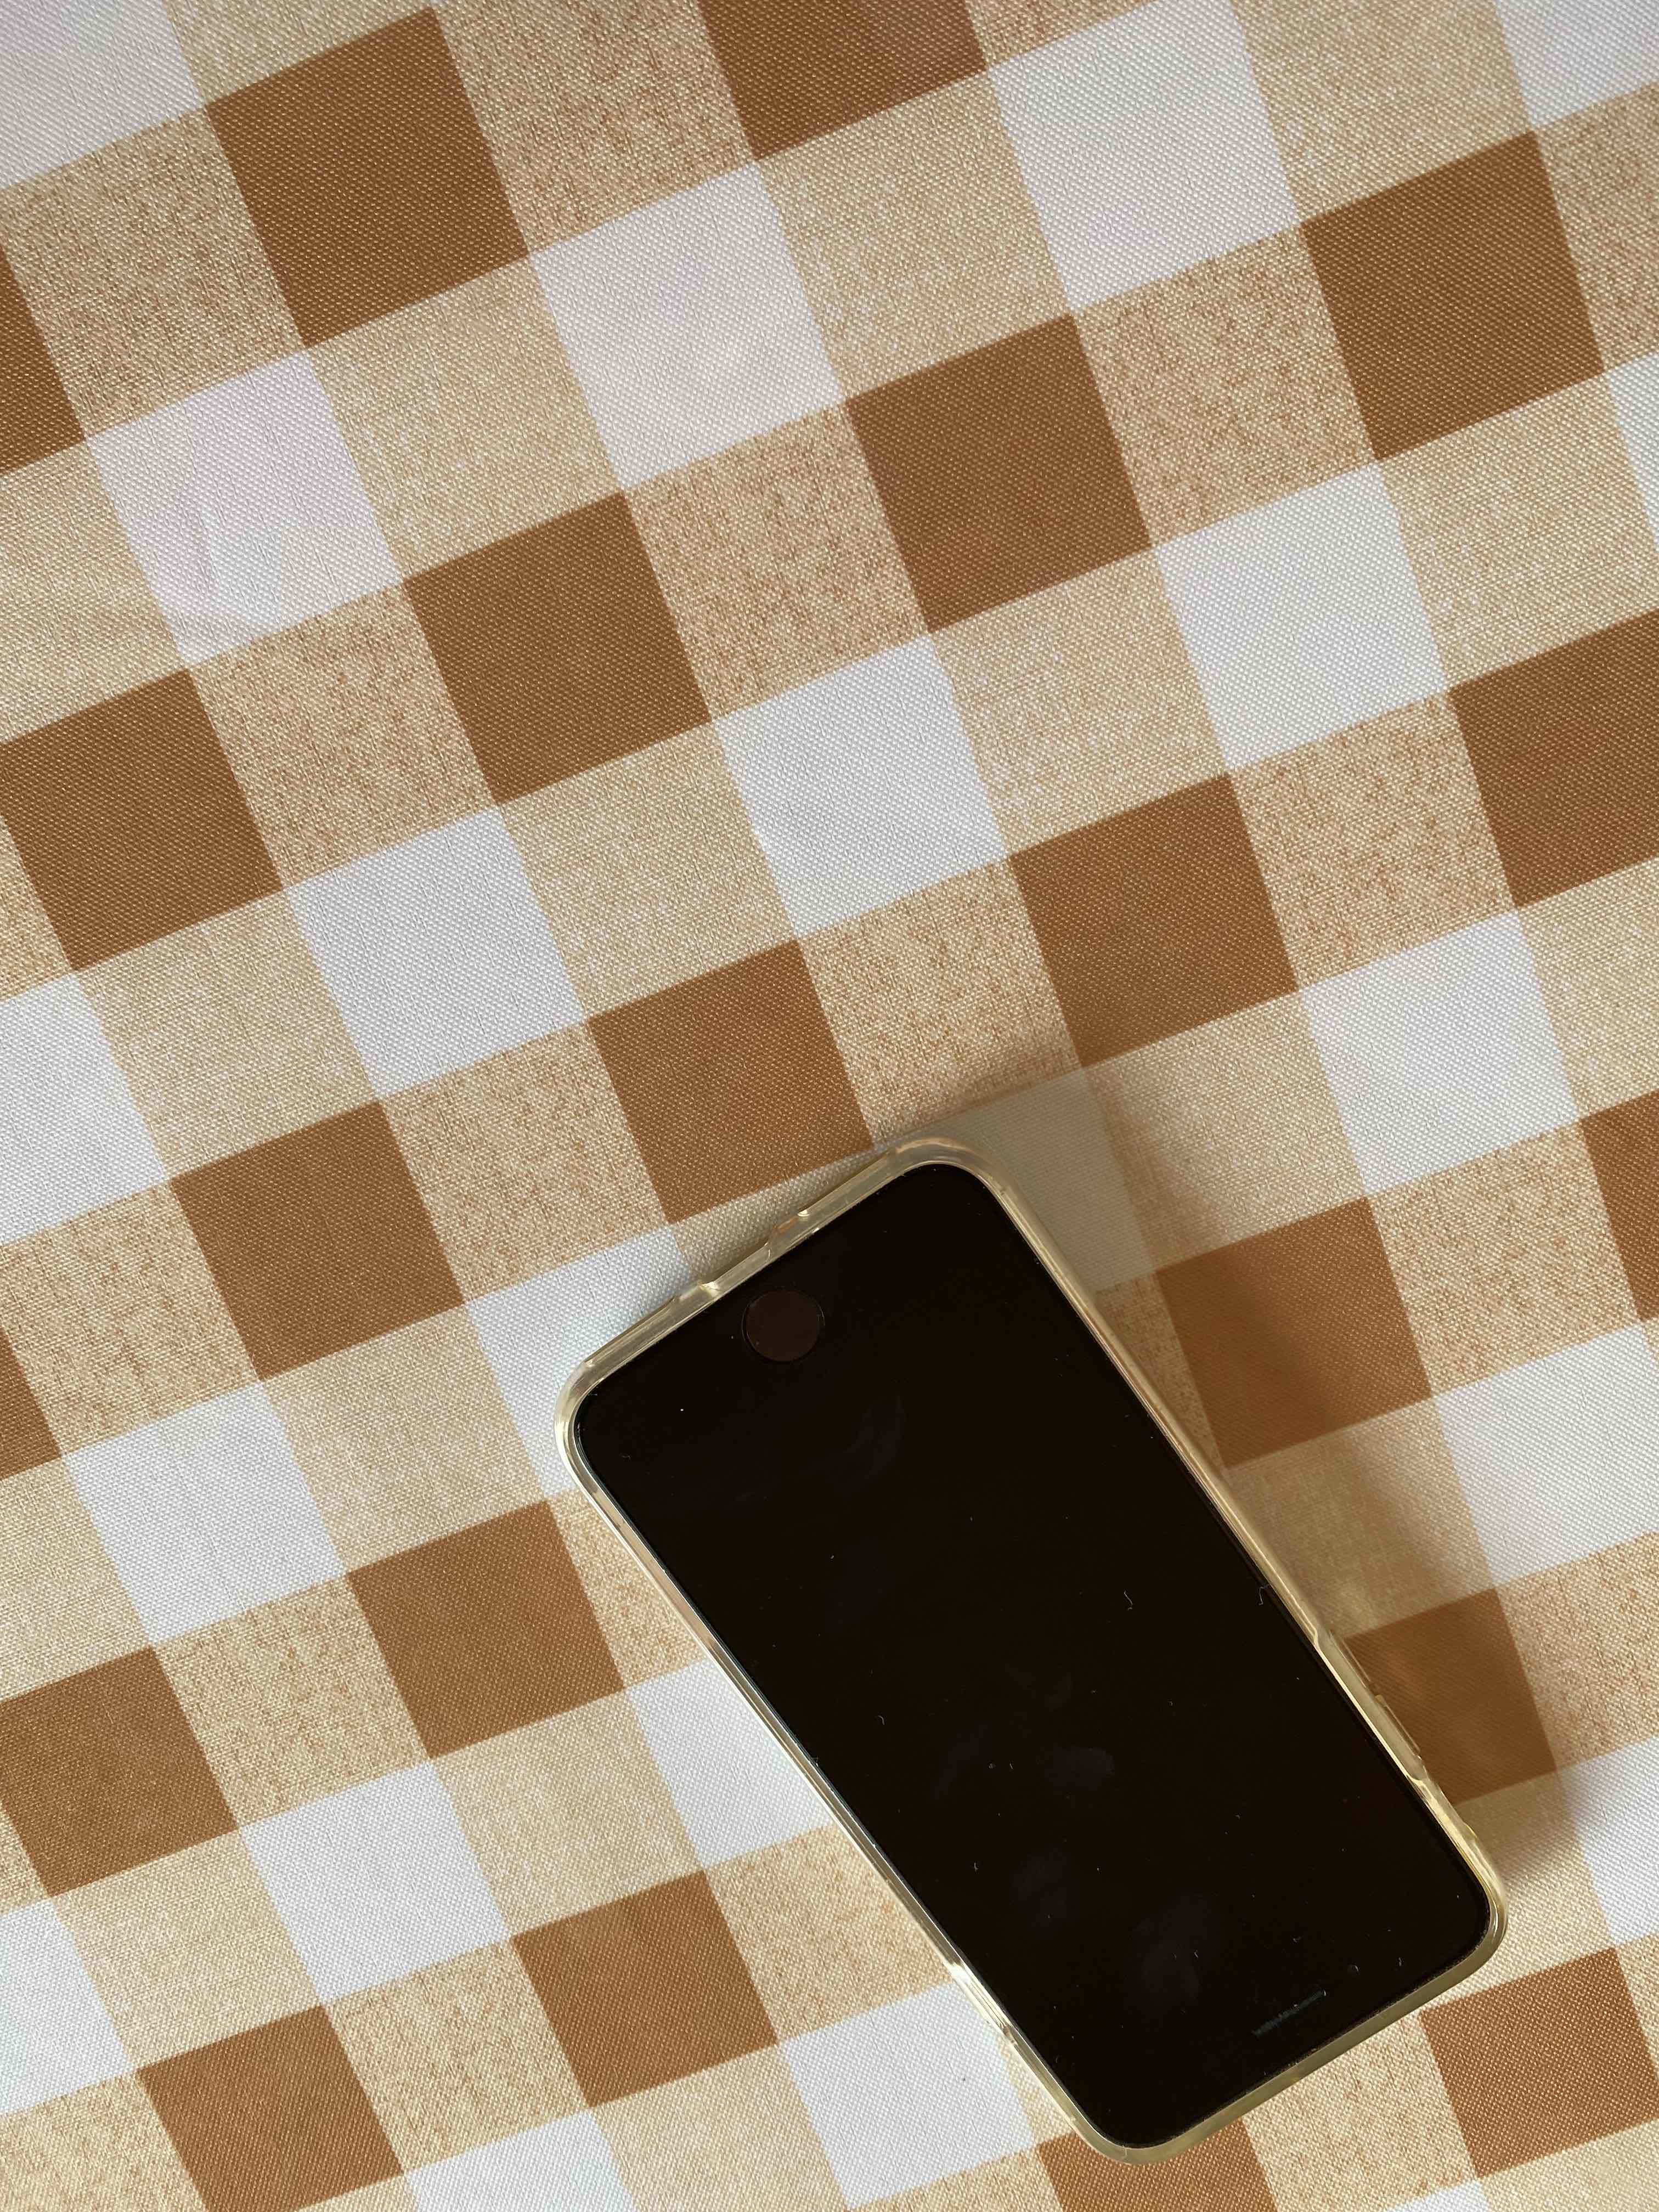Cell Phone: (561, 1136, 1506, 2161)
